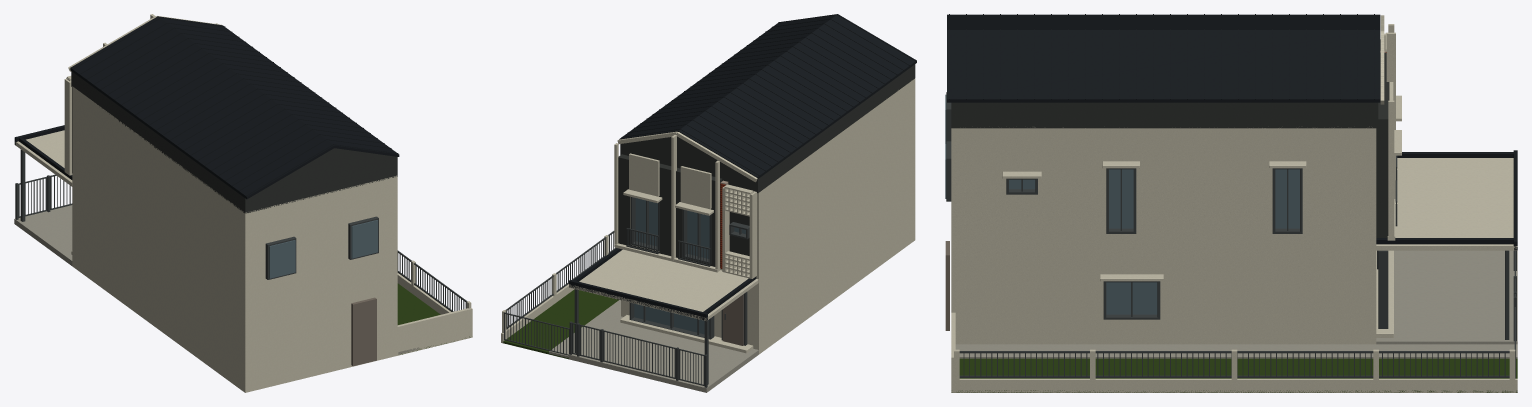
The model's file is elmina-end.glb.
3 renders of one model, left to right at view 1: azimuth 30°, elevation 25°; view 2: azimuth 150°, elevation 25°; view 3: azimuth 270°, elevation 25°, orthographic. The views are drawn at different scales.
Parts seen in each view (by area): view 1: Warm ivory render.001, Graphite roof.001, Charcoal facade.001, Powder coated frames.001, Porch concrete.001, Smoked blue glazing.001, Dark timber door.001, Yard grass, FrontBoundary; view 2: Warm ivory render.001, Graphite roof.001, Charcoal facade.001, Porch concrete.001, Powder coated frames.001, Yard grass, Smoked blue glazing.001, VehicleGate, FrontBoundary, YardFrontBoundary, Dark timber door.001, PedestrianGate; view 3: Warm ivory render.001, Graphite roof.001, Porch concrete.001, Charcoal facade.001, Powder coated frames.001, Yard grass, Smoked blue glazing.001.
Boxes of the visible parts, x1,y1,x2,y2 form: Warm ivory render.001: [14, 14, 472, 392]; Graphite roof.001: [14, 16, 399, 199]; Charcoal facade.001: [71, 71, 397, 213]; Powder coated frames.001: [20, 149, 467, 311]; Porch concrete.001: [14, 205, 419, 354]; Smoked blue glazing.001: [269, 220, 377, 278]; Dark timber door.001: [351, 297, 376, 366]; Yard grass: [397, 283, 470, 354]; FrontBoundary: [15, 175, 50, 219]; Warm ivory render.001: [501, 78, 915, 354]; Graphite roof.001: [569, 14, 916, 320]; Charcoal facade.001: [618, 64, 915, 267]; Porch concrete.001: [549, 300, 758, 392]; Powder coated frames.001: [505, 197, 749, 384]; Yard grass: [503, 289, 618, 359]; Smoked blue glazing.001: [634, 198, 745, 335]; VehicleGate: [603, 330, 675, 378]; FrontBoundary: [569, 321, 707, 387]; YardFrontBoundary: [504, 312, 569, 355]; Dark timber door.001: [722, 294, 743, 345]; PedestrianGate: [579, 324, 600, 360]; Warm ivory render.001: [951, 15, 1517, 392]; Graphite roof.001: [947, 14, 1517, 250]; Porch concrete.001: [955, 250, 1517, 358]; Charcoal facade.001: [951, 39, 1389, 237]; Powder coated frames.001: [946, 92, 1509, 377]; Yard grass: [951, 358, 1517, 392]; Smoked blue glazing.001: [945, 94, 1299, 314].
Bounding box in the file's own units: 9.12 × 8.72 × 16.17.
10 materials, 6 textured.
